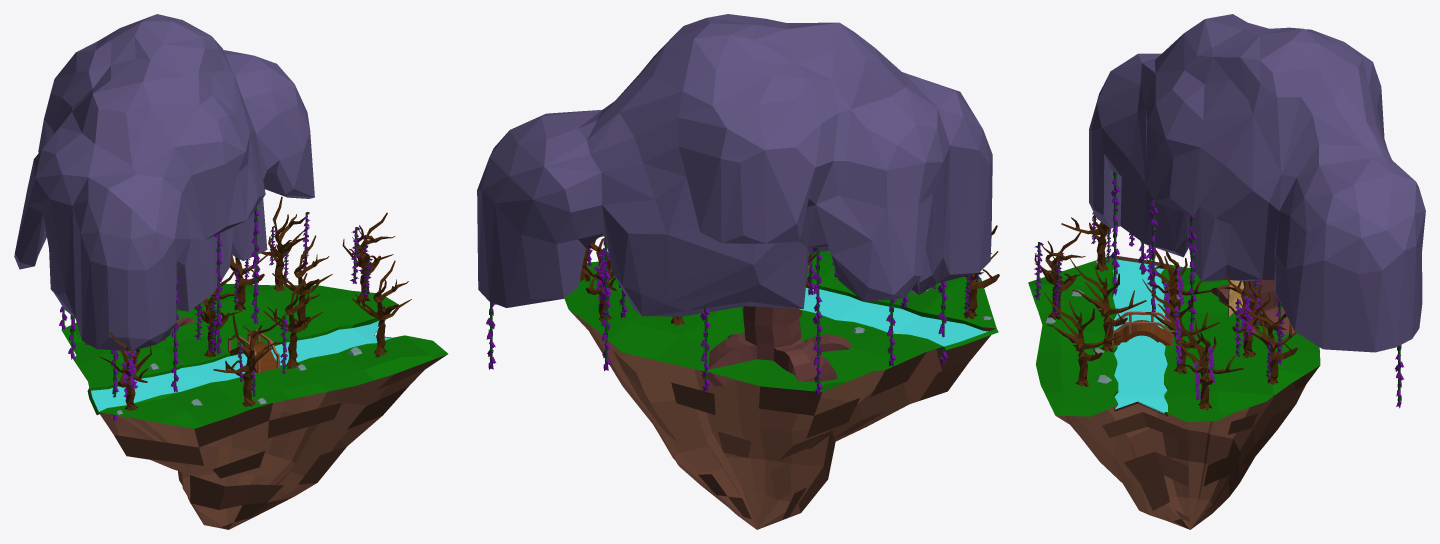
File: fairyland.fbx
3 renders of one model, left to right at view 1: azimuth 30°, elevation 25°; view 2: azimuth 150°, elevation 25°; view 3: azimuth 270°, elevation 25°, orthographic. The views are drawn at different scales.
Visible parts, largest first — view 1: WeepingWillowTree_mesh, Island, Tree w flower.005, Tree w flower.003, Tree w flower.004, Tree w flower.001, DryTree.002, DryTree.001, Tree w flower.002, DryTree, Bridge, Tree w flower; view 2: WeepingWillowTree_mesh, Island, Tree w flower.003, Tree w flower.001; view 3: WeepingWillowTree_mesh, Island, Tree w flower.004, Tree w flower.003, Tree w flower.005, DryTree.002, Tree w flower.002, Bridge, DryTree.001, Tree w flower, DryTree, Tree w flower.001.
Part boxes in pixels (left/top/right/bottom): WeepingWillowTree_mesh: left=14, top=14, right=314, bottom=421; Island: left=61, top=283, right=447, bottom=529; Tree w flower.005: left=213, top=312, right=288, bottom=417; Tree w flower.003: left=261, top=196, right=310, bottom=291; Tree w flower.004: left=342, top=212, right=395, bottom=303; Tree w flower.001: left=99, top=331, right=151, bottom=410; DryTree.002: left=351, top=260, right=411, bottom=357; DryTree.001: left=263, top=273, right=323, bottom=368; Tree w flower.002: left=194, top=270, right=241, bottom=357; DryTree: left=272, top=235, right=332, bottom=332; Bridge: left=228, top=330, right=279, bottom=373; Tree w flower: left=230, top=253, right=268, bottom=311; WeepingWillowTree_mesh: left=477, top=14, right=992, bottom=395; Island: left=564, top=250, right=998, bottom=529; Tree w flower.003: left=582, top=236, right=616, bottom=321; Tree w flower.001: left=931, top=225, right=999, bottom=319; WeepingWillowTree_mesh: left=1089, top=14, right=1425, bottom=408; Island: left=1028, top=255, right=1320, bottom=529; Tree w flower.004: left=1174, top=306, right=1243, bottom=410; Tree w flower.003: left=1234, top=298, right=1297, bottom=384; Tree w flower.005: left=1033, top=231, right=1085, bottom=320; DryTree.002: left=1044, top=292, right=1121, bottom=386; Tree w flower.002: left=1146, top=245, right=1211, bottom=319; Bridge: left=1112, top=311, right=1174, bottom=345; DryTree.001: left=1069, top=257, right=1146, bottom=351; Tree w flower: left=1216, top=275, right=1270, bottom=357; DryTree: left=1142, top=279, right=1219, bottom=373; Tree w flower.001: left=1061, top=212, right=1134, bottom=271.
Bounding box in the file's own units: 41394 × 54975 × 40837.
